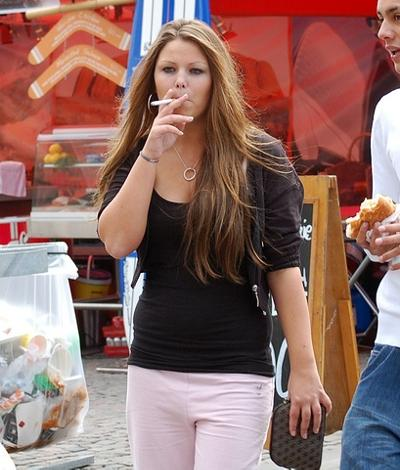person: (97, 19, 333, 470)
